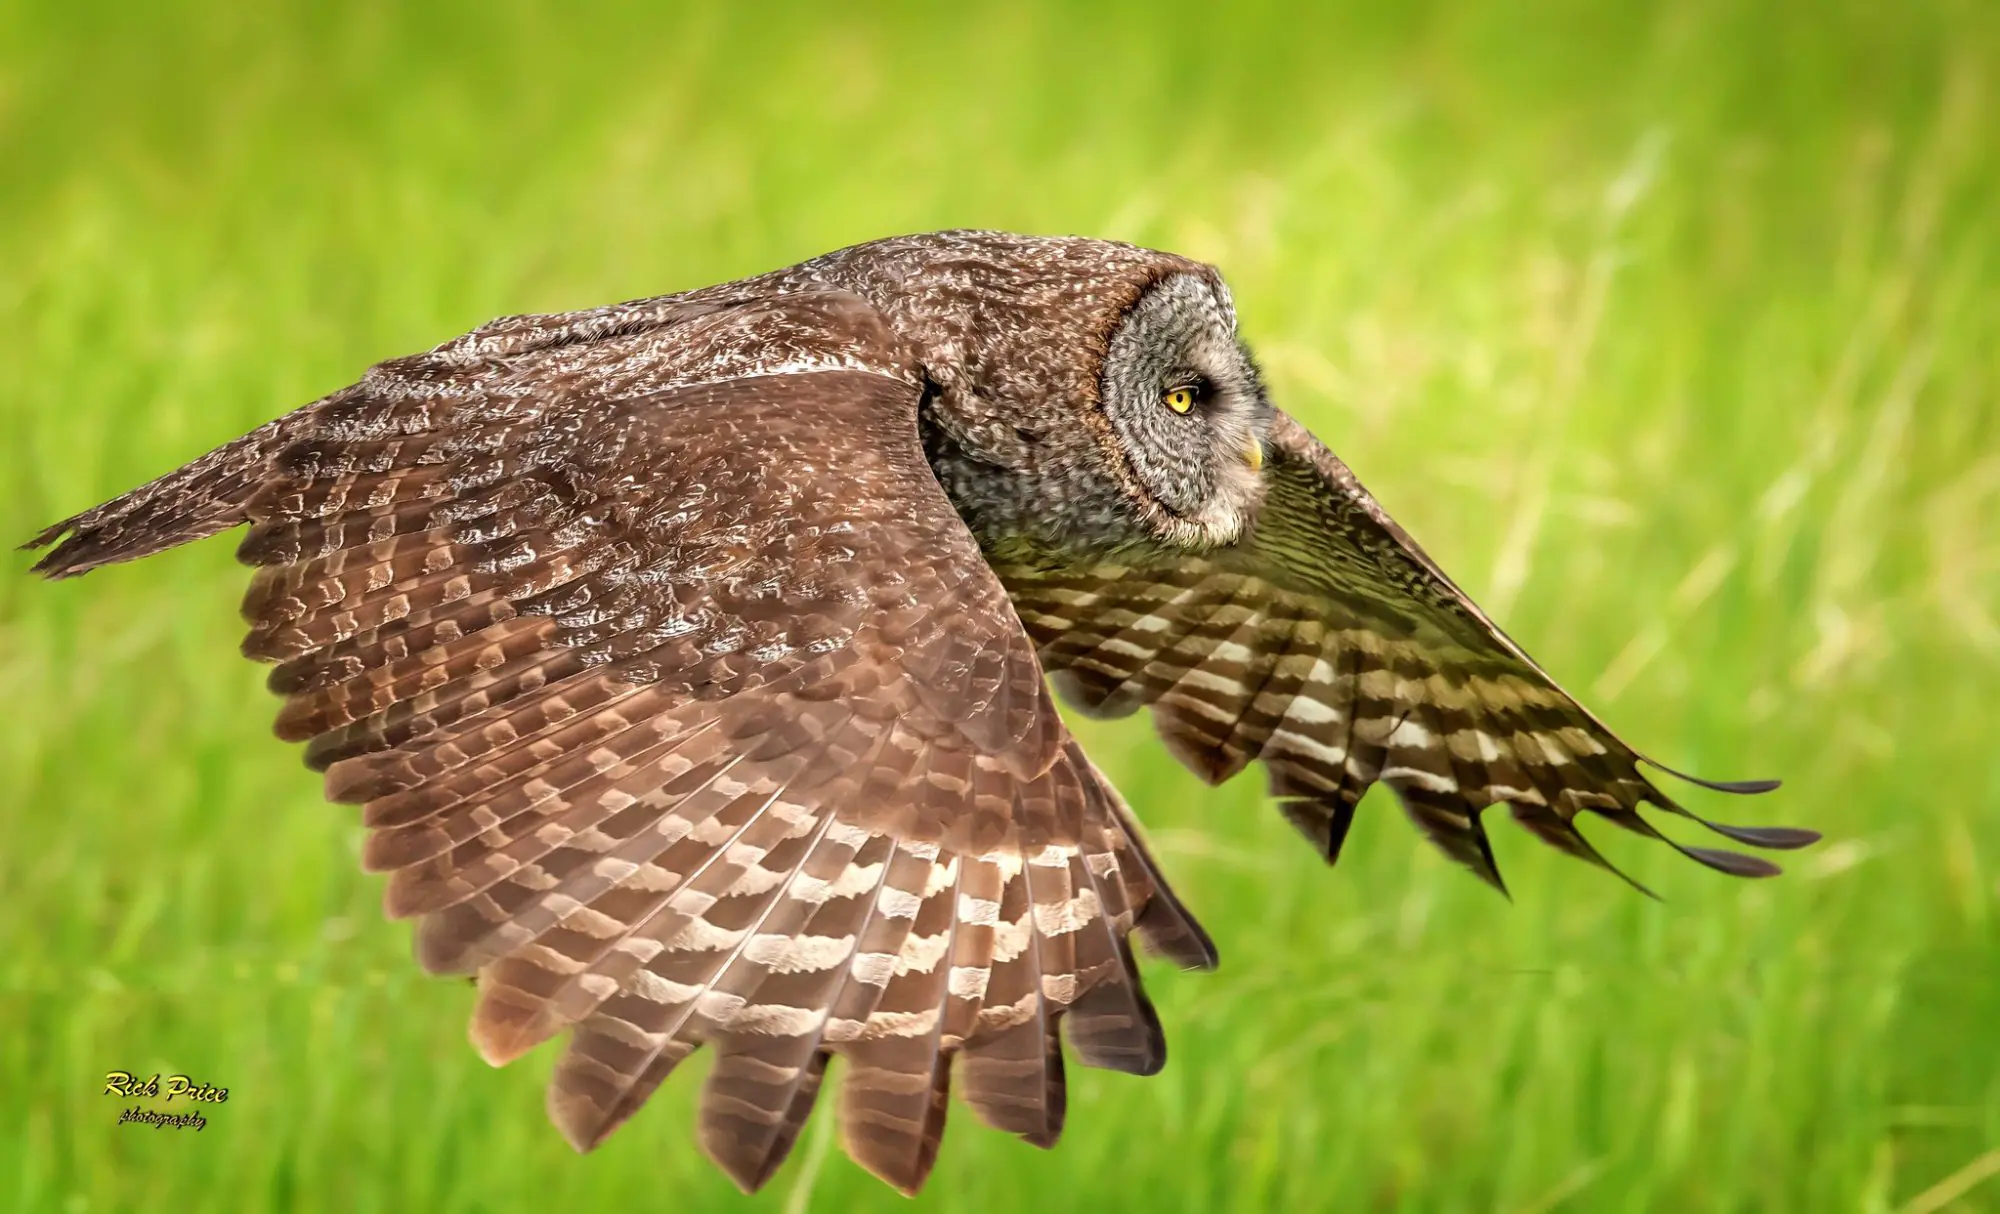owl: (86, 220, 1824, 1068)
